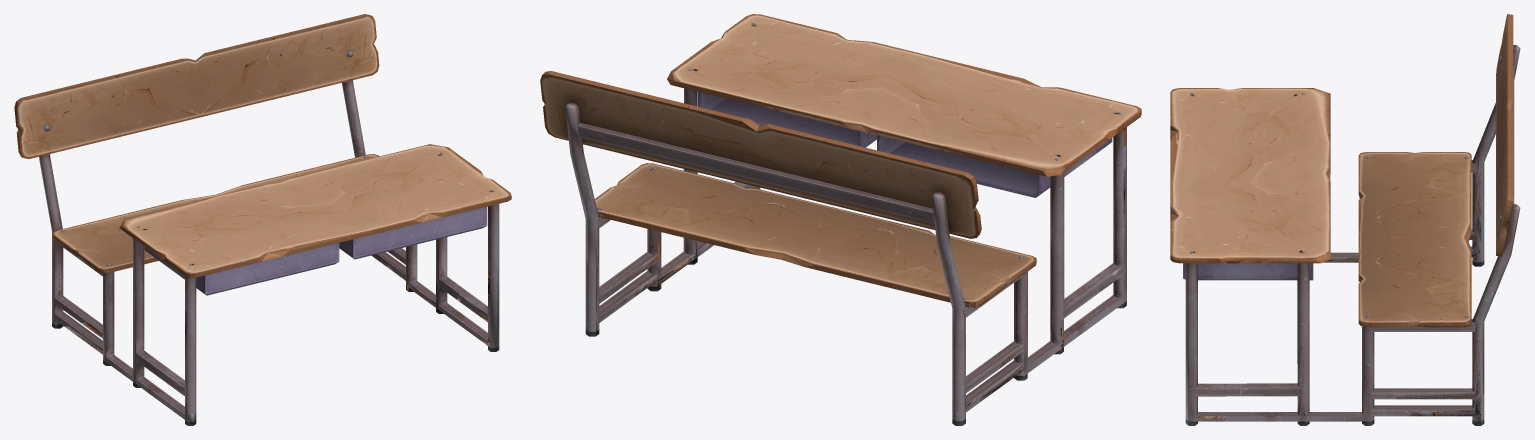
File: mesa_broken.glb
3 renders of one model, left to right at view 1: azimuth 30°, elevation 25°; view 2: azimuth 150°, elevation 25°; view 3: azimuth 270°, elevation 25°, orthographic. The views are drawn at different scales.
Parts seen in each view (by area): view 1: Object_35, Object_35_cell.028_cell.006, Object_35_cell.028_cell.005, Object_35_cell.028_cell, Object_35_cell.028_cell.002, Object_35_cell.028_cell.004, Object_35_cell.001, Object_35_cell.058, Object_35_cell.002, Object_35_cell.020, Object_35_cell.008, Object_35_cell.028_cell.003 (+3 smaller); view 2: Object_35, Object_35_cell.028_cell.006, Object_35_cell.028_cell.005, Object_35_cell.009, Object_35_cell.028_cell.002, Object_35_cell.028_cell, Object_35_cell.022_cell.002, Object_35_cell.028_cell.004, Object_35_cell.001, Object_35_cell.022_cell, Object_35_cell.055, Object_35_cell.030 (+20 smaller); view 3: Object_35, Object_35_cell.028_cell.006, Object_35_cell.028_cell.005, Object_35_cell.028_cell.002, Object_35_cell.028_cell, Object_35_cell.028_cell.004, Object_35_cell.038, Object_35_cell.049, Object_35_cell.010, Object_35_cell.002, Object_35_cell.028_cell.003, Object_35_cell.020 (+5 smaller).
Boxes of the visible parts, left/top/right/bottom form: Object_35: left=14, top=14, right=507, bottom=425; Object_35_cell.028_cell.006: left=219, top=163, right=387, bottom=231; Object_35_cell.028_cell.005: left=123, top=195, right=270, bottom=267; Object_35_cell.028_cell: left=179, top=226, right=372, bottom=277; Object_35_cell.028_cell.002: left=350, top=154, right=436, bottom=228; Object_35_cell.028_cell.004: left=412, top=171, right=511, bottom=224; Object_35_cell.001: left=144, top=243, right=339, bottom=294; Object_35_cell.058: left=176, top=276, right=196, bottom=416; Object_35_cell.002: left=387, top=237, right=466, bottom=316; Object_35_cell.020: left=464, top=266, right=499, bottom=351; Object_35_cell.008: left=106, top=334, right=196, bottom=425; Object_35_cell.028_cell.003: left=387, top=145, right=451, bottom=172; Object_35: left=542, top=24, right=1141, bottom=425; Object_35_cell.028_cell.006: left=769, top=49, right=973, bottom=148; Object_35_cell.028_cell.005: left=931, top=102, right=1132, bottom=176; Object_35_cell.009: left=690, top=109, right=827, bottom=203; Object_35_cell.028_cell.002: left=727, top=42, right=904, bottom=108; Object_35_cell.028_cell: left=924, top=54, right=1141, bottom=117; Object_35_cell.022_cell.002: left=813, top=136, right=906, bottom=223; Object_35_cell.028_cell.004: left=712, top=14, right=846, bottom=59; Object_35_cell.001: left=877, top=135, right=1074, bottom=197; Object_35_cell.022_cell: left=883, top=156, right=978, bottom=208; Object_35_cell.055: left=819, top=185, right=953, bottom=276; Object_35_cell.030: left=551, top=75, right=613, bottom=151; Object_35: left=1170, top=14, right=1520, bottom=425; Object_35_cell.028_cell.006: left=1170, top=142, right=1330, bottom=211; Object_35_cell.028_cell.005: left=1193, top=88, right=1330, bottom=146; Object_35_cell.028_cell.002: left=1170, top=192, right=1330, bottom=239; Object_35_cell.028_cell: left=1170, top=88, right=1234, bottom=184; Object_35_cell.028_cell.004: left=1170, top=206, right=1258, bottom=263; Object_35_cell.038: left=1392, top=311, right=1487, bottom=425; Object_35_cell.049: left=1469, top=144, right=1490, bottom=266; Object_35_cell.010: left=1358, top=172, right=1399, bottom=239; Object_35_cell.002: left=1257, top=341, right=1409, bottom=425; Object_35_cell.028_cell.003: left=1263, top=231, right=1330, bottom=251; Object_35_cell.020: left=1185, top=335, right=1248, bottom=425.
Bounding box in the file's own units: 9.46 × 5.61 × 7.44.
1 material, 1 textured.
